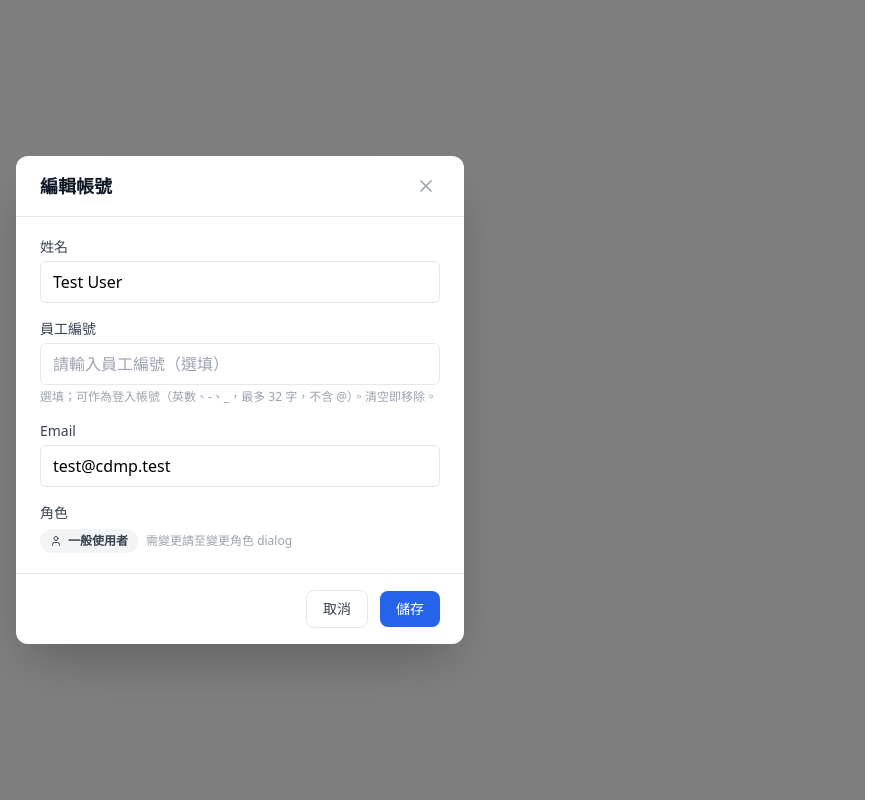
Test: EditAccountModal › 前端欄位驗證 › Email 清空後提交顯示錯誤
Clear the field labelled "Email" at [240, 466], box [40,445,440,487]
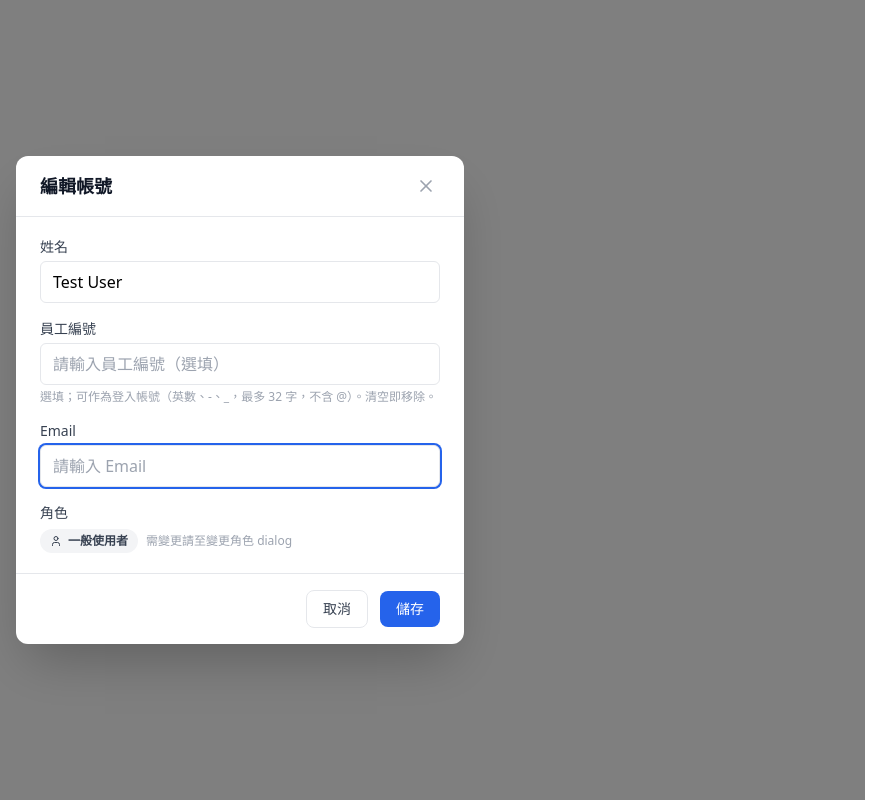
Click the button "儲存" at [410, 609], box [380,591,440,627]
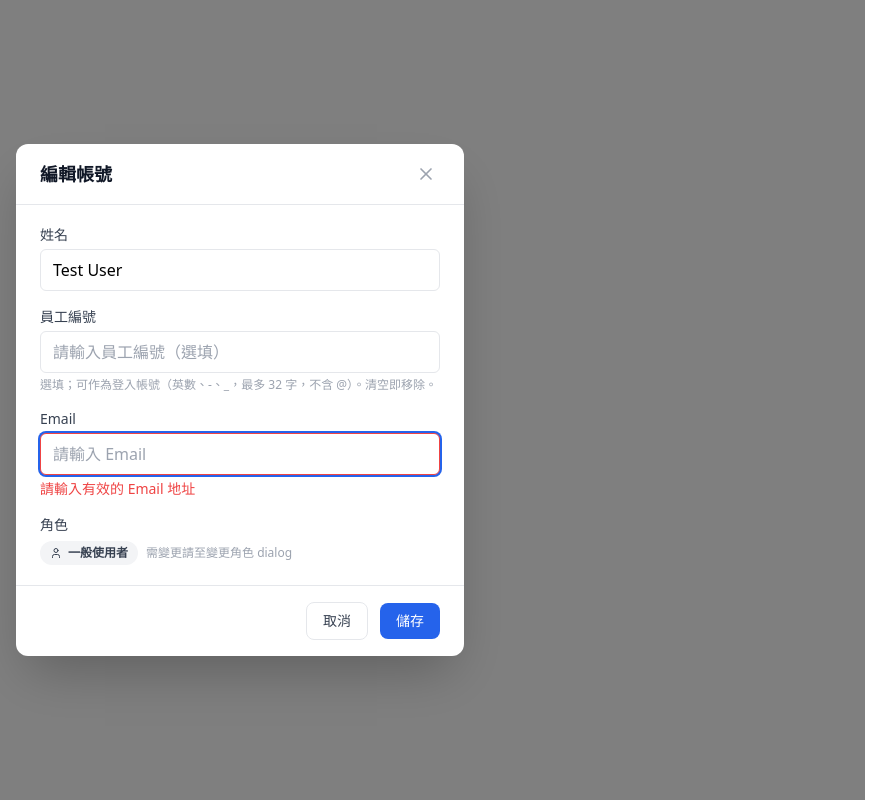
Now the text "請輸入有效的 Email 地址" is shown, box [40,479,195,498]
